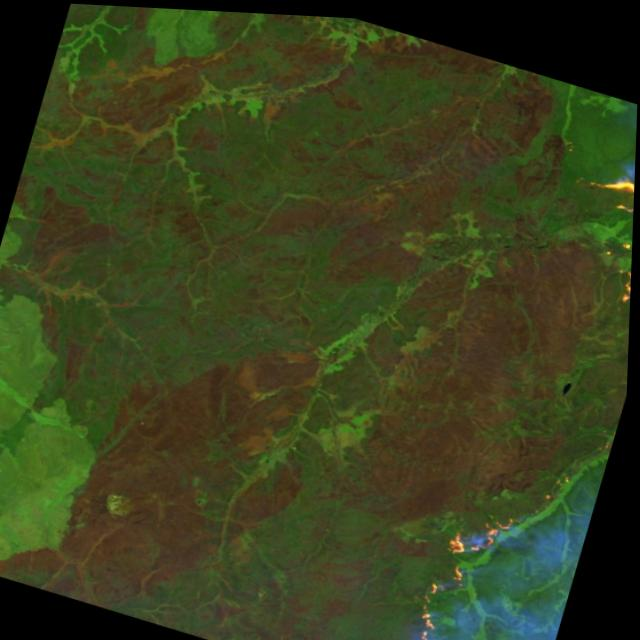fire: (317, 462, 533, 640), (550, 144, 636, 304)
